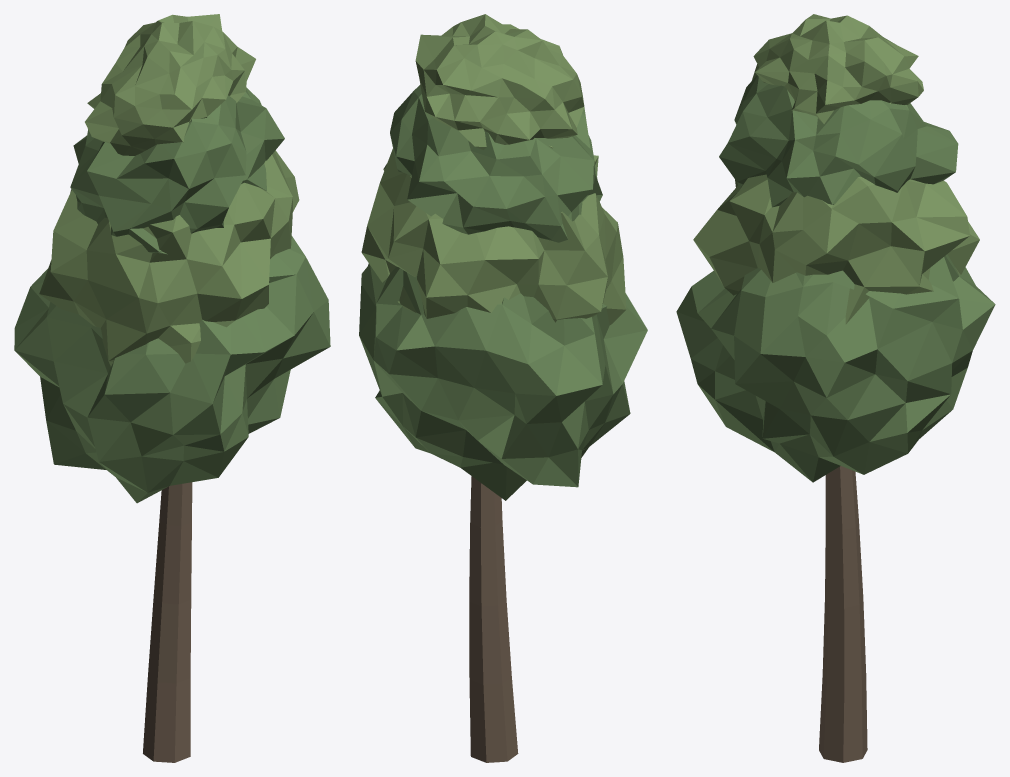
The model's file is SM_Tree_B.fbx.
The picture shows the model from 3 angles, left to right: view 1: azimuth 30°, elevation 25°; view 2: azimuth 150°, elevation 25°; view 3: azimuth 270°, elevation 25°; orthographic projection.
Visible parts, largest first — view 1: SM_Tree_B; view 2: SM_Tree_B; view 3: SM_Tree_B.
Boxes of the visible parts, bbox=[...] form: SM_Tree_B: bbox=[14, 14, 330, 762]; SM_Tree_B: bbox=[359, 14, 647, 762]; SM_Tree_B: bbox=[676, 14, 995, 762].
Size of the model in its own units: 3.77 by 9.82 by 3.84.
